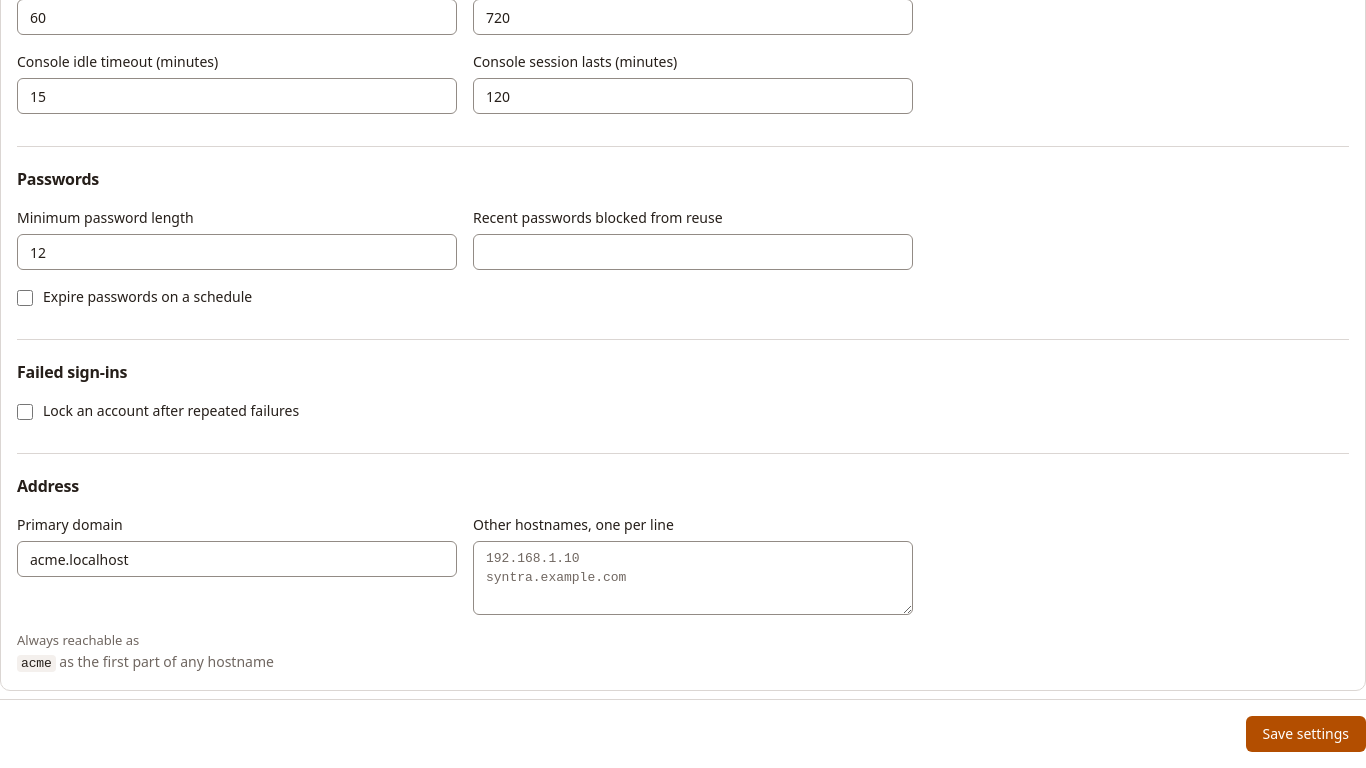
the primary domain, and the passkeys it would break › refuses to move the domain until the passkey count is acknowledged
The image size is (1366, 768).
(page scrolled)
Replace the text in the field labelled "Primary domain" with "moved.example.com" at {"x": 237, "y": 559}, box [17, 541, 457, 577]
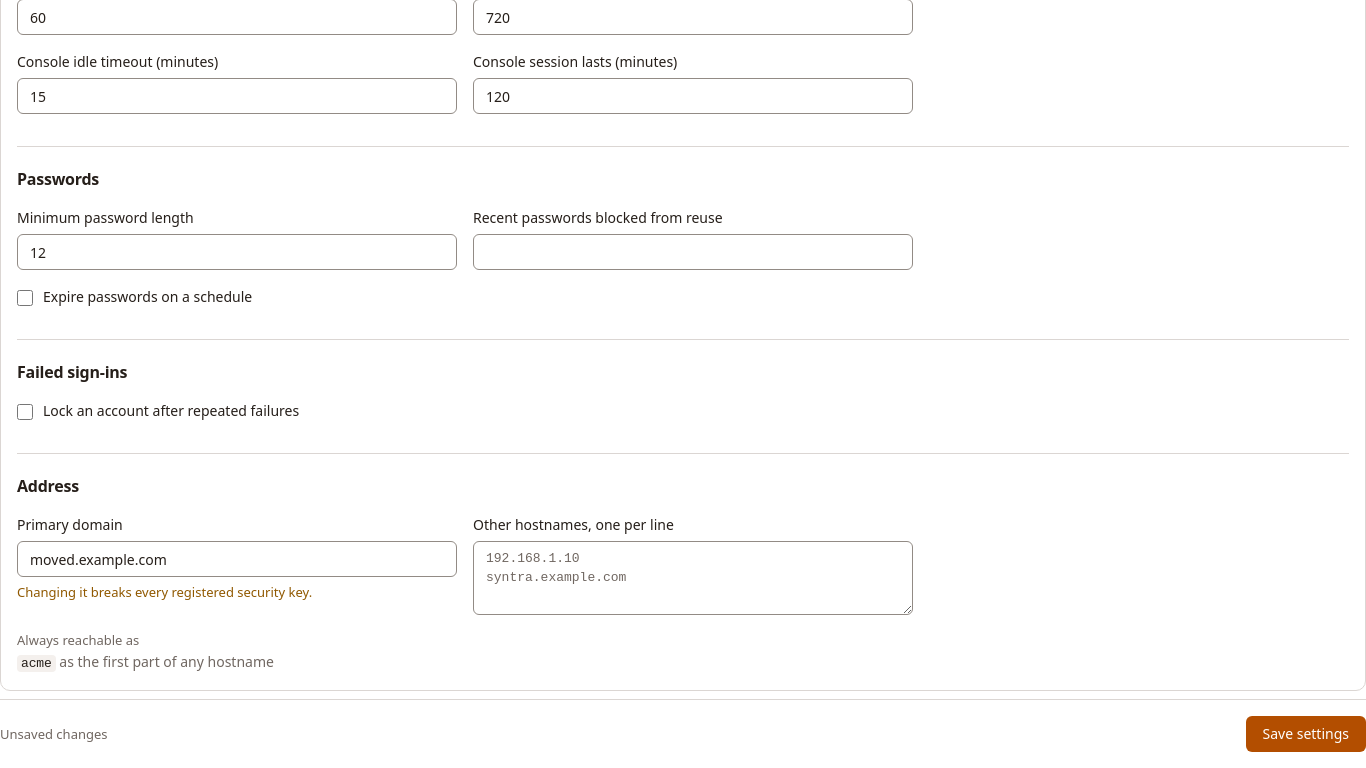
Click the button "Save settings" at {"x": 1306, "y": 734}, box [1246, 716, 1365, 752]
(page scrolled)
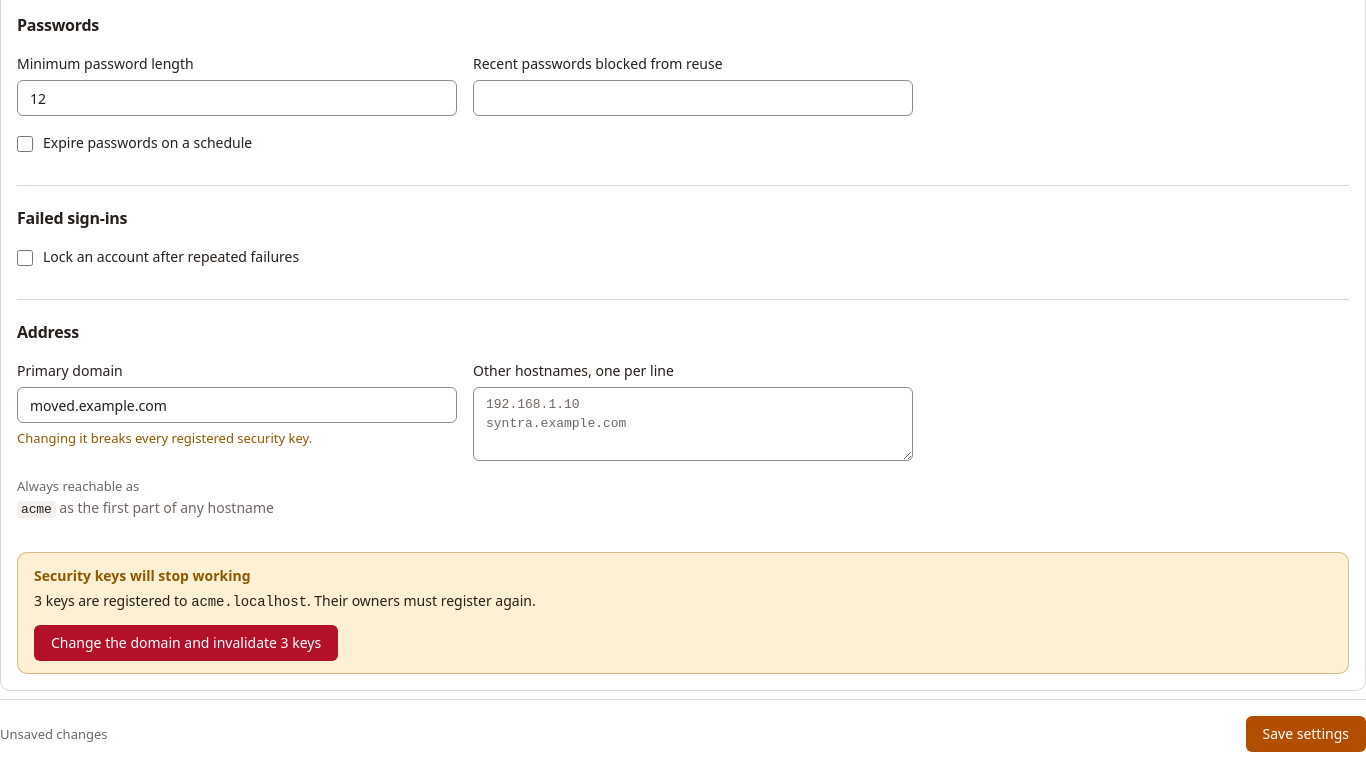
Result: the text "Security keys will stop working" is shown at [34, 566, 251, 585]
Result: the text "3 keys are" is shown at [34, 591, 536, 610]
Click the button "Change the domain and invalidate 3 keys" at {"x": 186, "y": 643}, box [34, 625, 338, 661]
(page scrolled)
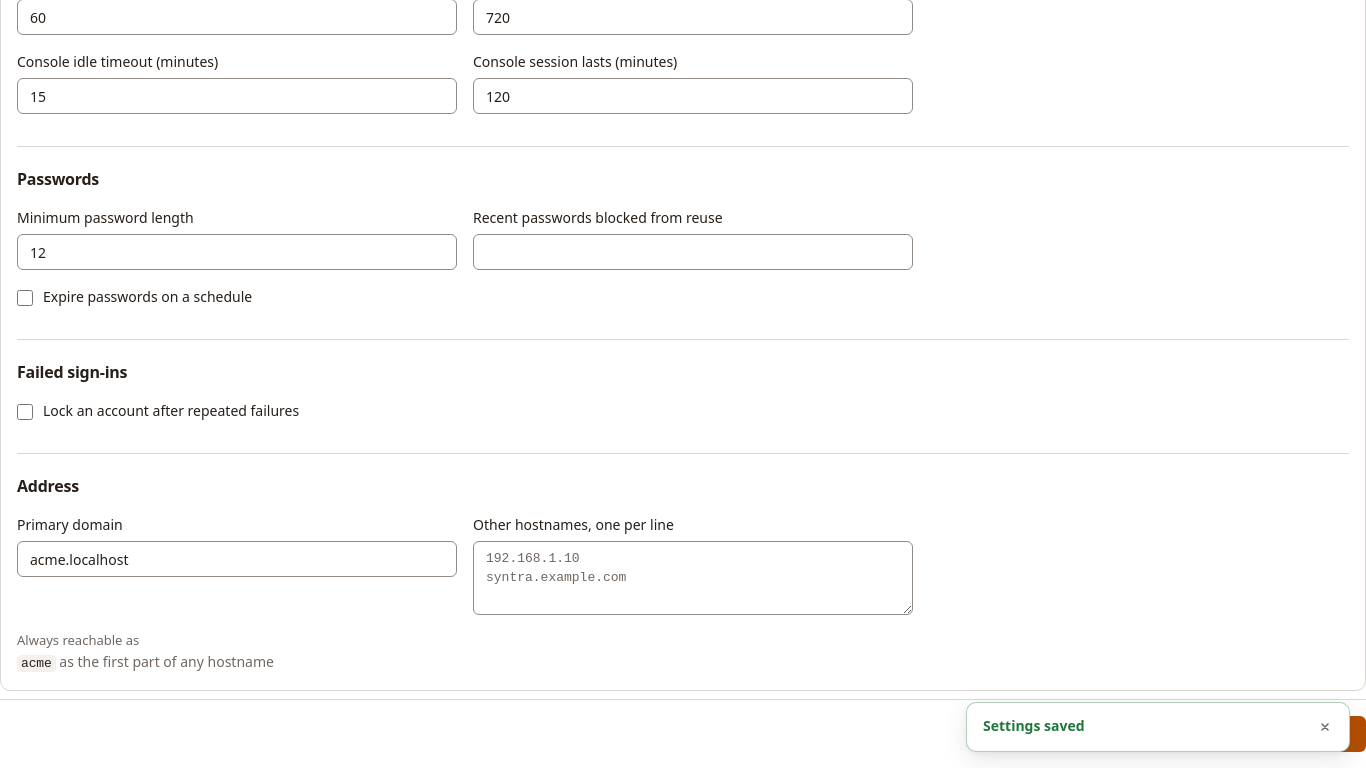
Result: the text "Settings saved" is shown at [983, 716, 1085, 735]
